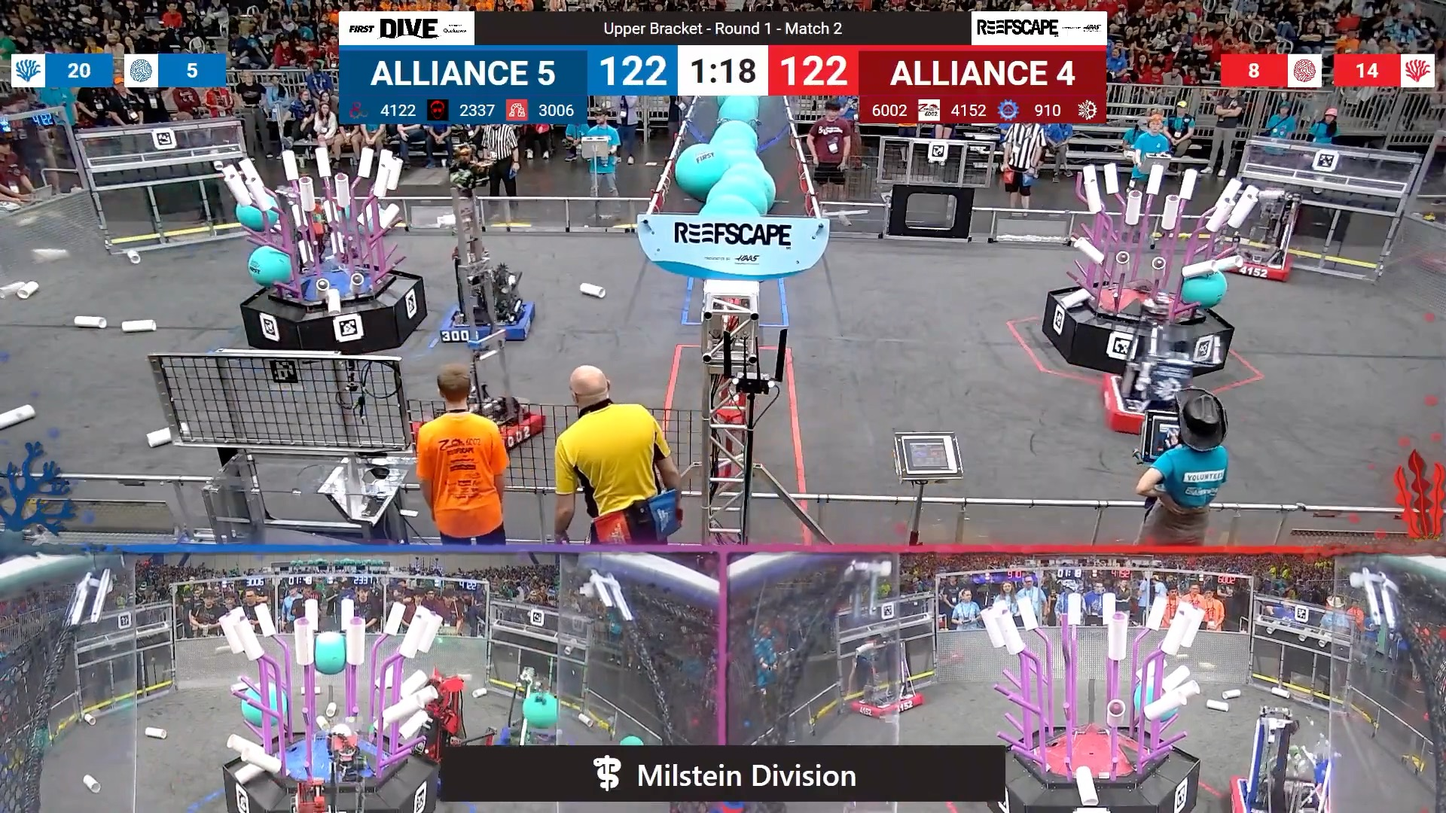bumpers: (425, 400, 552, 458), (1097, 374, 1194, 438), (435, 297, 542, 348), (1200, 245, 1301, 283), (845, 687, 929, 720)
